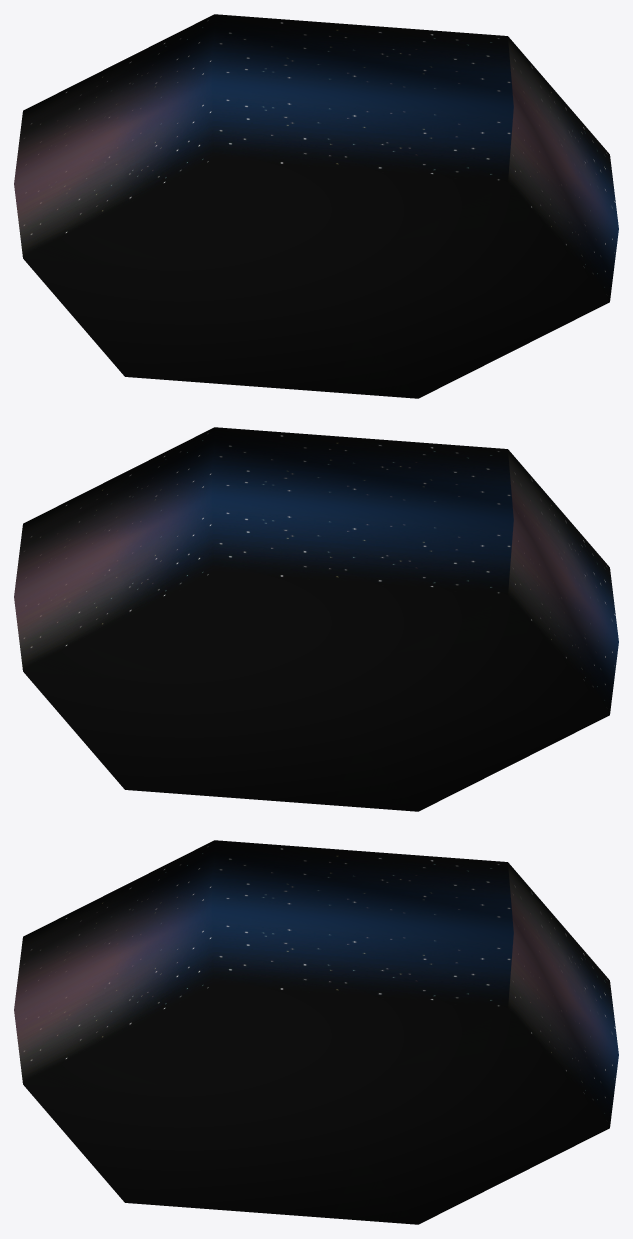
The model's file is vrcorn.glb.
3 renders of one model, top to bottom at view 1: azimuth 30°, elevation 25°; view 2: azimuth 150°, elevation 25°; view 3: azimuth 270°, elevation 25°, orthographic.
Parts seen in each view (by area): view 1: polygon0; view 2: polygon0; view 3: polygon0.
Boxes of the visible parts, x1,y1,x2,y2 form: polygon0: [14, 14, 618, 398]; polygon0: [14, 427, 618, 811]; polygon0: [14, 840, 618, 1224].
Size of the model in its own units: 5147 by 1455 by 5394.
Materials: 1 (1 with a texture image).
